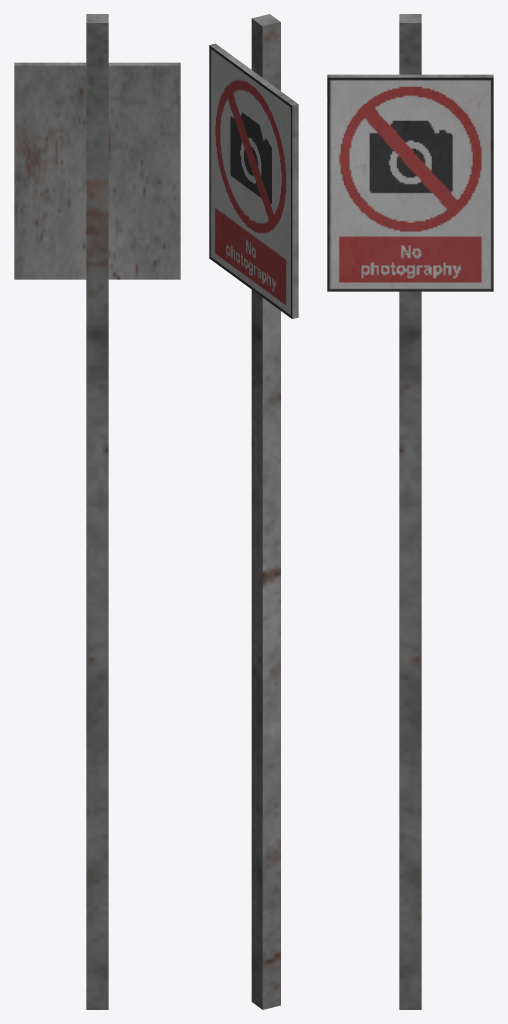
Rendered from Sign_12.fbx.
The picture shows the model from 3 angles, left to right: view 1: azimuth 90°, elevation 25°; view 2: azimuth 210°, elevation 25°; view 3: azimuth 270°, elevation 25°; orthographic projection.
Parts seen in each view (by area): view 1: Sign_12; view 2: Sign_12; view 3: Sign_12.
Part boxes in pixels (left/top/right/bottom): Sign_12: left=14, top=14, right=180, bottom=1009; Sign_12: left=209, top=14, right=298, bottom=1009; Sign_12: left=327, top=14, right=493, bottom=1009.
Bounding box in the file's own units: 5.76 × 221 × 33.73.
